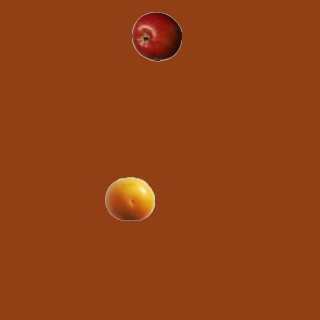Apple Braeburn: (131, 11, 181, 61)
Cherry Wax Yellow: (104, 173, 154, 223)
